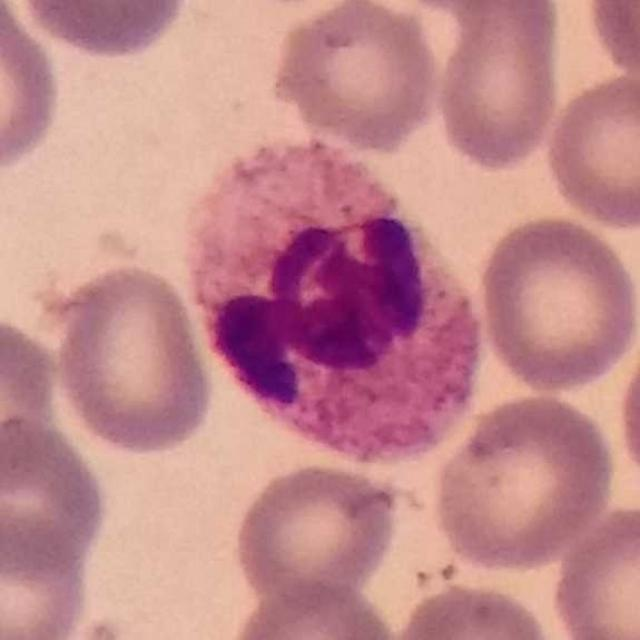Neutrophil: (178, 141, 480, 461)
RBC: (426, 388, 620, 576), (49, 260, 218, 458), (473, 210, 640, 397), (268, 1, 443, 154), (229, 459, 403, 610), (426, 1, 566, 175), (0, 410, 112, 583), (541, 68, 640, 234), (547, 498, 640, 640), (0, 508, 99, 640), (0, 310, 66, 498), (0, 1, 67, 179), (224, 574, 400, 640), (387, 576, 565, 640), (9, 0, 195, 61), (612, 312, 640, 505), (582, 0, 640, 89)
